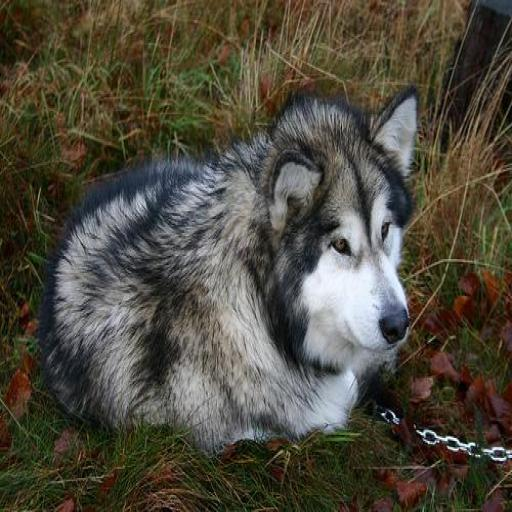dog_face: (269, 90, 421, 352)
